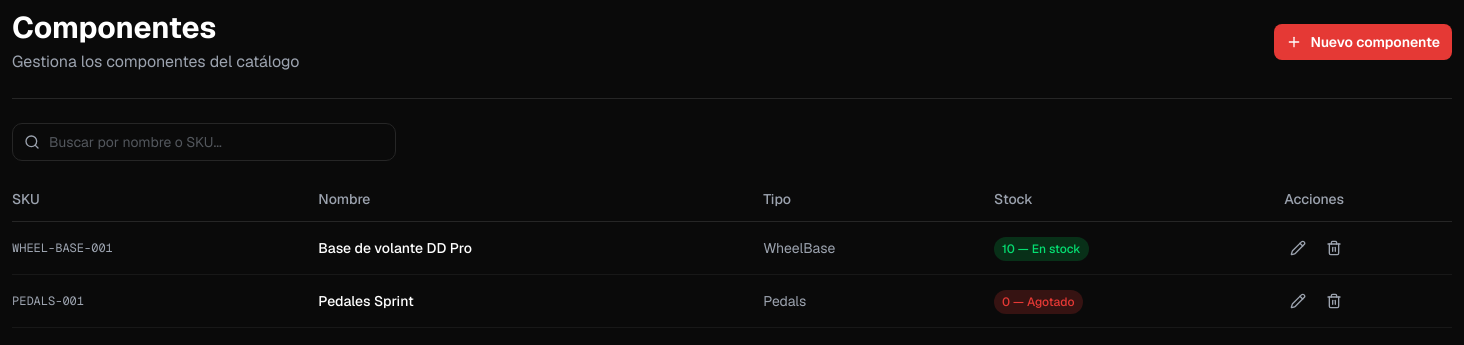
ComponentsContent › eliminar › al hacer clic en No oculta la confirmación
Expected: the text "Base de volante DD Pro" is shown, [318,222,763,274]
Click the button titled "Eliminar" in the row of "WHEEL-BASE-001": (1334, 248) [1320,234,1348,262]
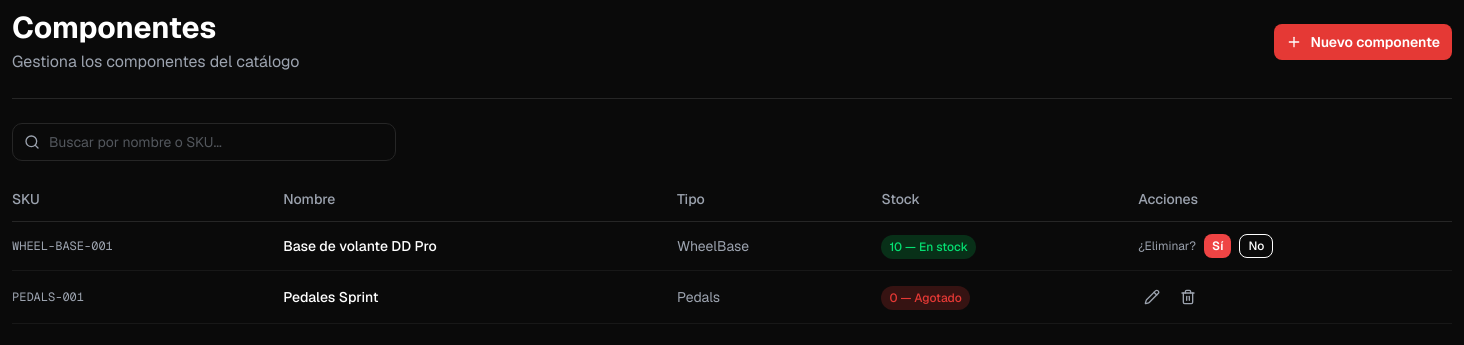
Click the button "No": (1256, 246) [1239,234,1273,258]
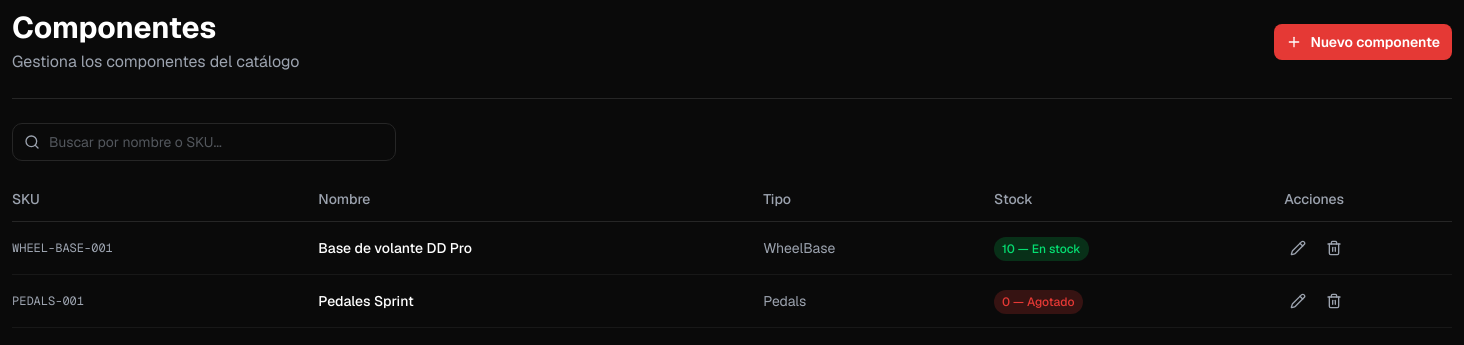
Result: the text "¿Eliminar?" is gone
